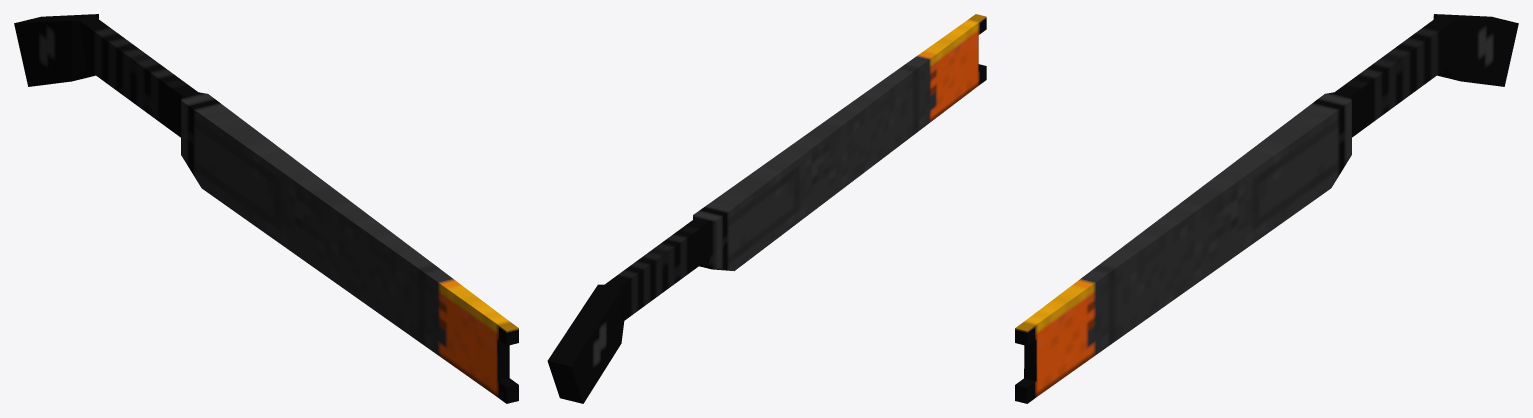
Rendered from BatonScaled.fbx.
The picture shows the model from 3 angles, left to right: view 1: azimuth 30°, elevation 25°; view 2: azimuth 150°, elevation 25°; view 3: azimuth 330°, elevation 25°; orthographic projection. The views are drawn at different scales.
Visible parts, largest first — view 1: STARBaton; view 2: STARBaton; view 3: STARBaton.
Boxes of the visible parts, x1,y1,x2,y2 form: STARBaton: (14, 14, 518, 403); STARBaton: (547, 14, 986, 403); STARBaton: (1015, 14, 1518, 403).
Size of the model in its own units: 0.0237 by 0.0821 by 0.7329.
Materials: 1 (1 with a texture image).
